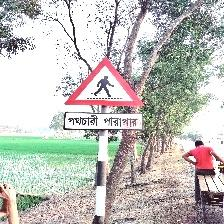Pedestrian-crossing: (63, 58, 144, 133)
